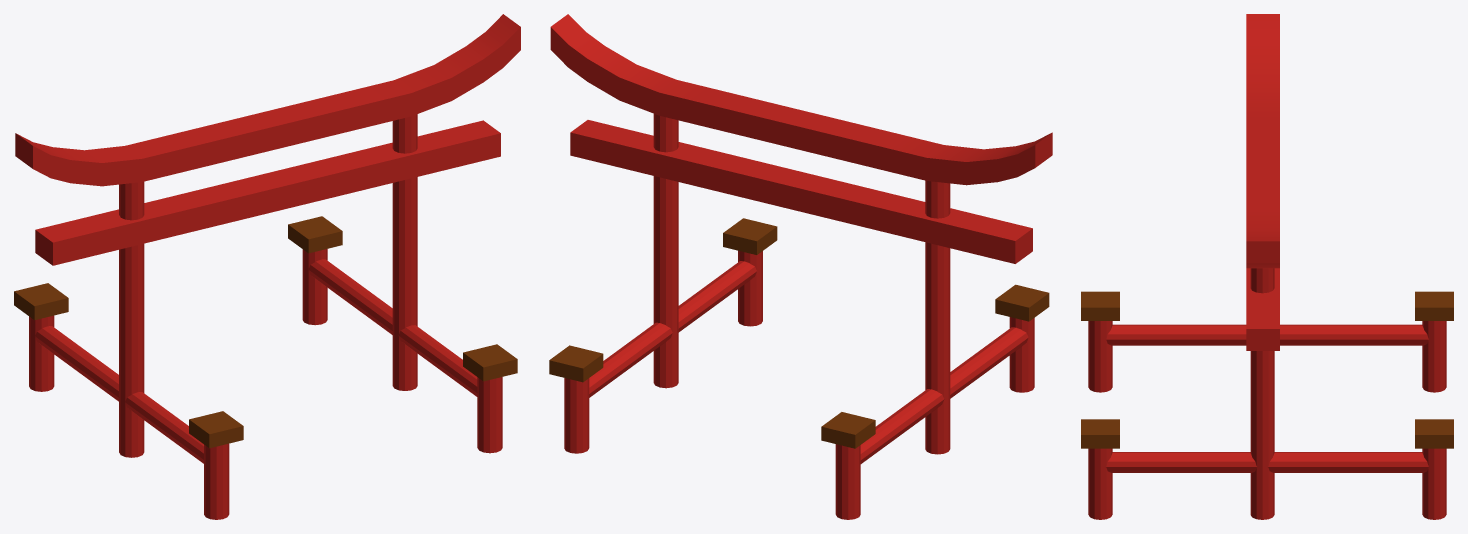
File: toriigate_asset_textured.fbx
3 renders of one model, left to right at view 1: azimuth 30°, elevation 25°; view 2: azimuth 150°, elevation 25°; view 3: azimuth 270°, elevation 25°, orthographic. The views are drawn at different scales.
Visible parts, largest first — view 1: pCube8; view 2: pCube8; view 3: pCube8.
Boxes of the visible parts, <box> form: pCube8: <box>14,14,520,519</box>; pCube8: <box>549,14,1052,519</box>; pCube8: <box>1081,14,1453,519</box>.
Bounding box in the file's own units: 644 × 428 × 447.
